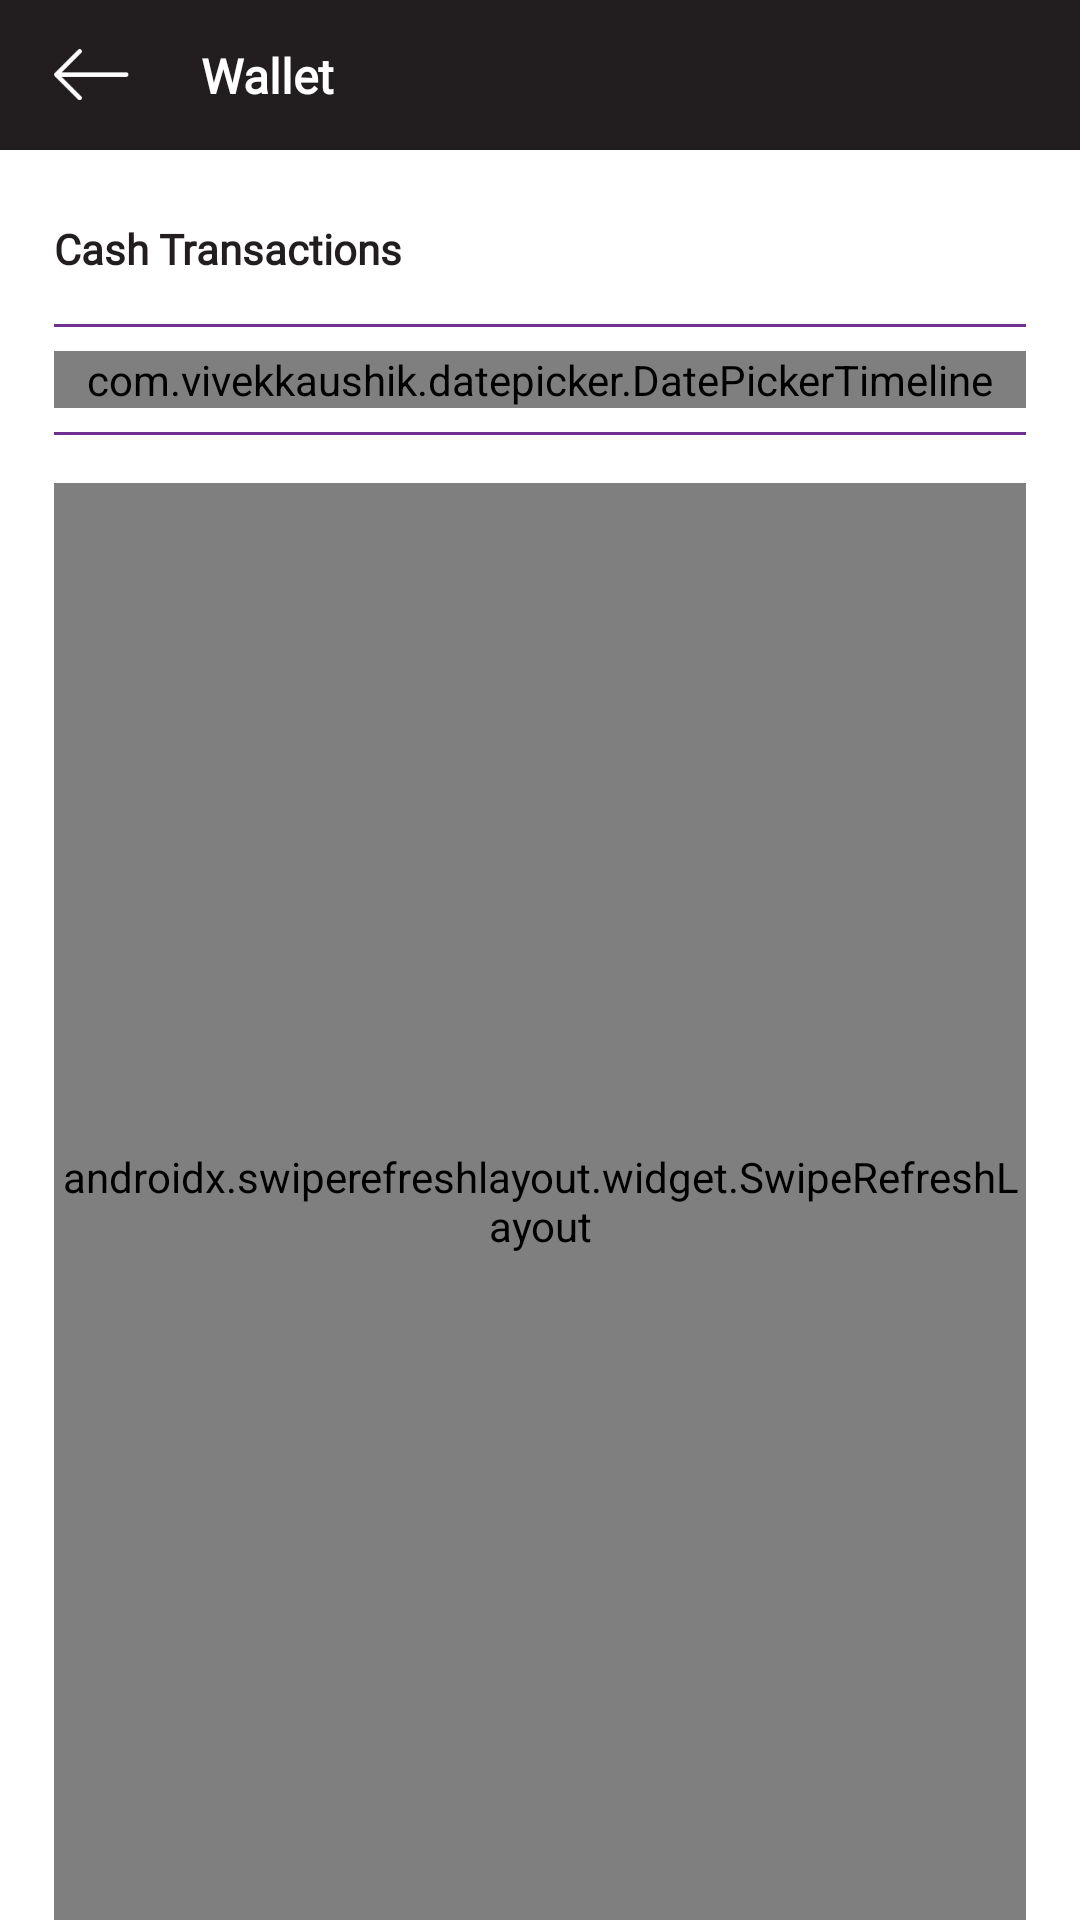

Where to tap for icons on this 1080×1920 app screen, as [x,y]:
back: [91,74]
